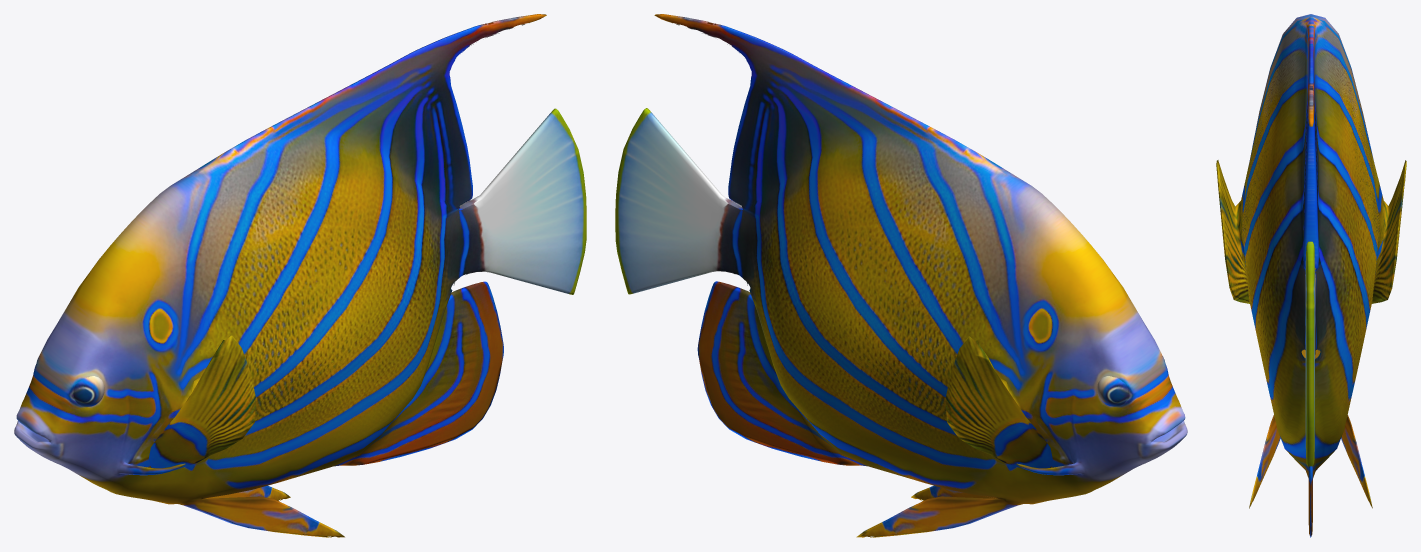
Rendered from fish fbx.fbx.
3 renders of one model, left to right at view 1: azimuth 30°, elevation 25°; view 2: azimuth 150°, elevation 25°; view 3: azimuth 270°, elevation 25°, orthographic. The views are drawn at different scales.
Parts seen in each view (by area): view 1: pasted__pCube5, pasted__pSphere3; view 2: pasted__pCube5, pasted__pSphere4; view 3: pasted__pCube5.
Part boxes in pixels (x1,y1,x2,y2): pasted__pCube5: [14, 14, 586, 537]; pasted__pSphere3: [73, 376, 104, 407]; pasted__pCube5: [615, 14, 1187, 537]; pasted__pSphere4: [1097, 376, 1128, 407]; pasted__pCube5: [1216, 14, 1406, 537].
Bounding box in the file's own units: 13 × 9.99 × 3.34.
